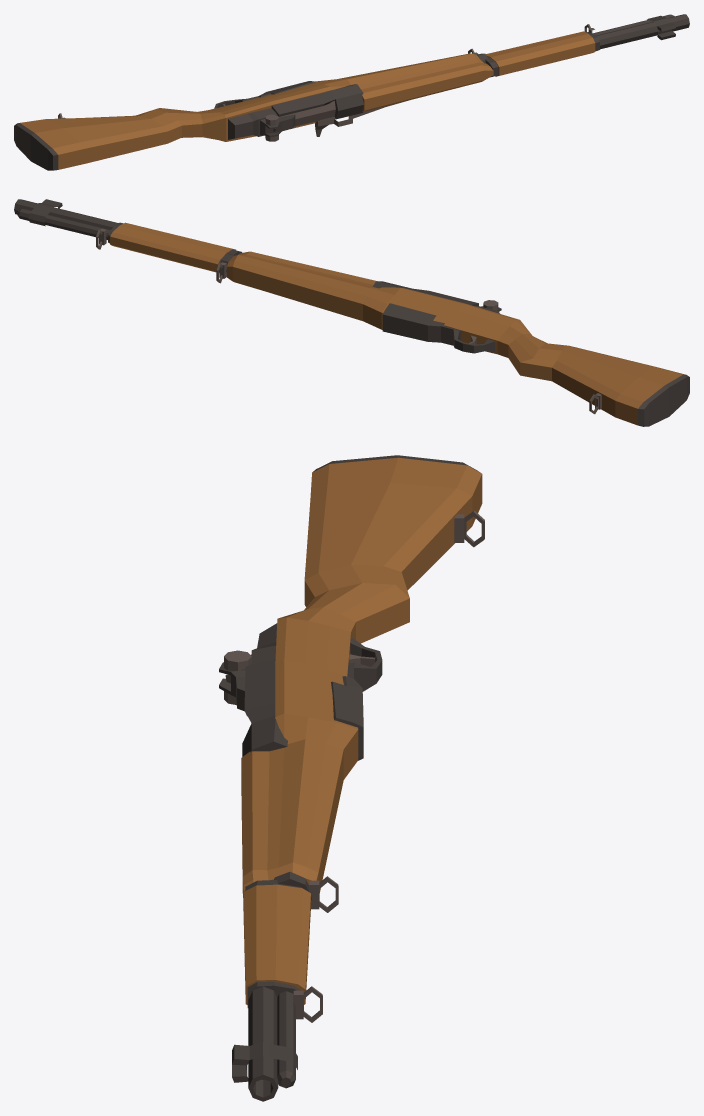
Rendered from M1Garand_3D.glb.
3 views of the same model, one above another, from view 1: azimuth 30°, elevation 25°; view 2: azimuth 150°, elevation 25°; view 3: azimuth 270°, elevation 25° (orthographic). The views are drawn at different scales.
Parts seen in each view (by area): view 1: M1Garand (2); view 2: M1Garand (2); view 3: M1Garand (2).
Part boxes in pixels (left/top/right/bottom): M1Garand (2): left=14, top=14, right=689, bottom=170; M1Garand (2): left=14, top=199, right=689, bottom=426; M1Garand (2): left=219, top=455, right=484, bottom=1101.
Bounding box in the file's own units: 1.13 × 0.0778 × 0.2097.
1 material, 1 textured.
